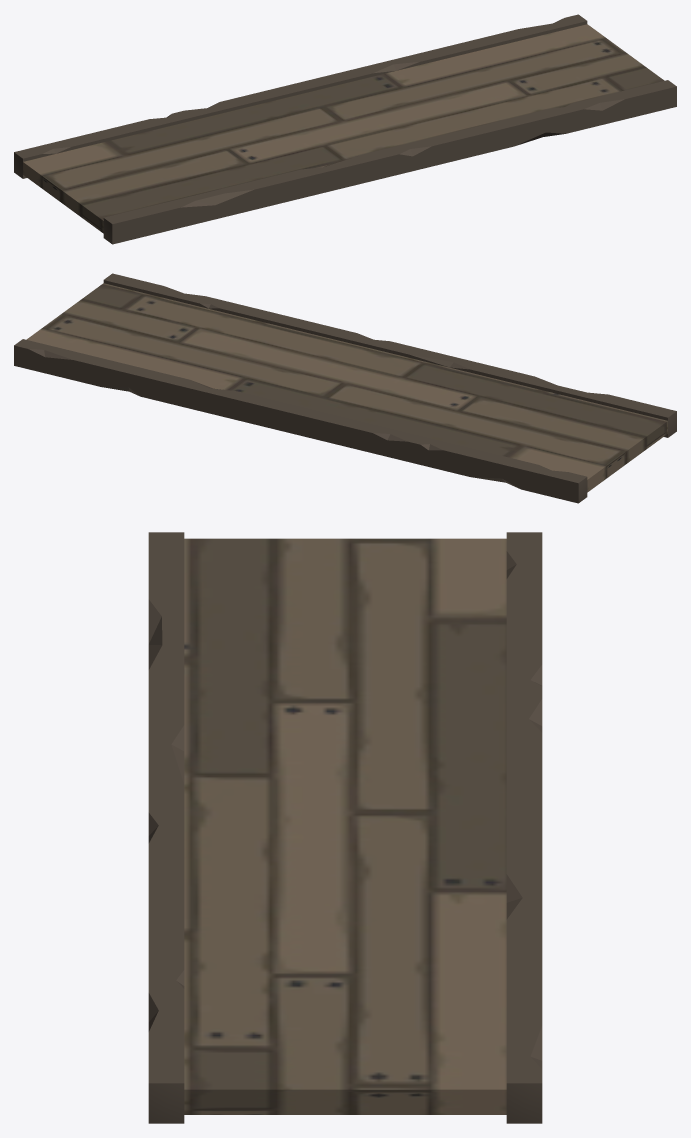
The model's file is kingdom_SM_Bld_Walkway_Wood_01.gltf.
The picture shows the model from 3 angles, top to bottom: view 1: azimuth 30°, elevation 25°; view 2: azimuth 150°, elevation 25°; view 3: azimuth 270°, elevation 25°; orthographic projection. The views are drawn at different scales.
Visible parts, largest first — view 1: SM_Bld_Walkway_Wood_01; view 2: SM_Bld_Walkway_Wood_01; view 3: SM_Bld_Walkway_Wood_01.
Part boxes in pixels (<box>): SM_Bld_Walkway_Wood_01: <box>14,14,676,244</box>; SM_Bld_Walkway_Wood_01: <box>14,273,676,503</box>; SM_Bld_Walkway_Wood_01: <box>148,532,542,1123</box>.
Bounding box in the file's own units: 5.02 × 0.1717 × 1.51.
1 material, 1 textured.
